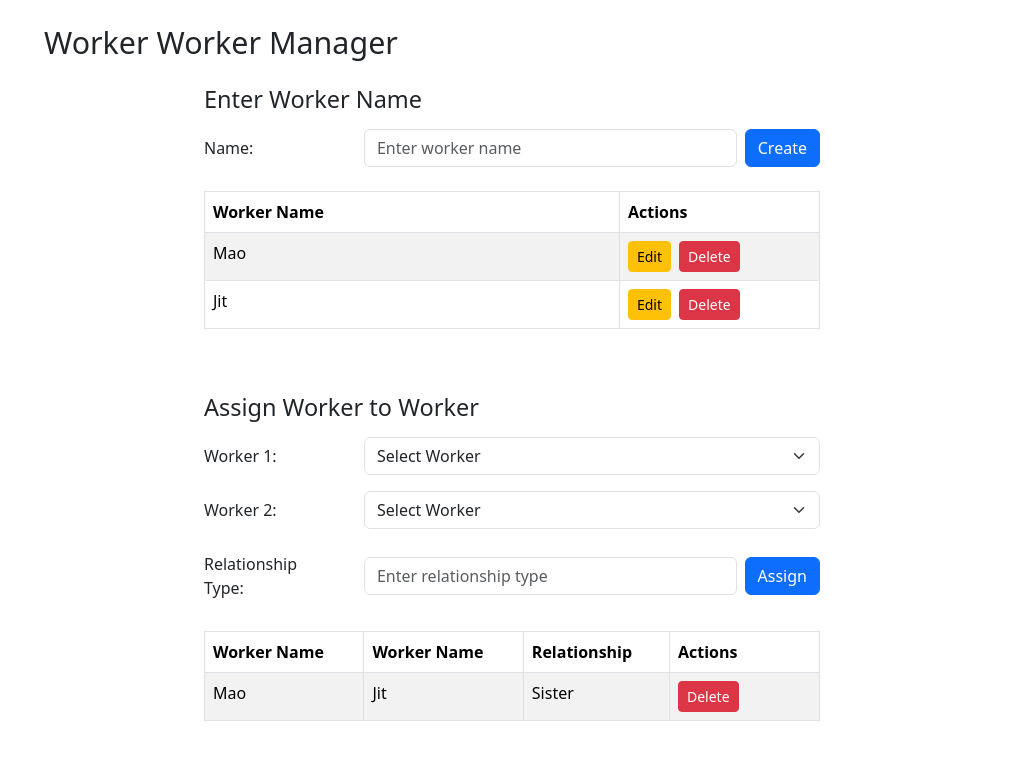
Test case: WorkerWorkerManager Component › remove a worker and an assignment automatically
Step 1. Click the 2nd button "Delete" → {"x": 709, "y": 304}, box [679,289,740,320]
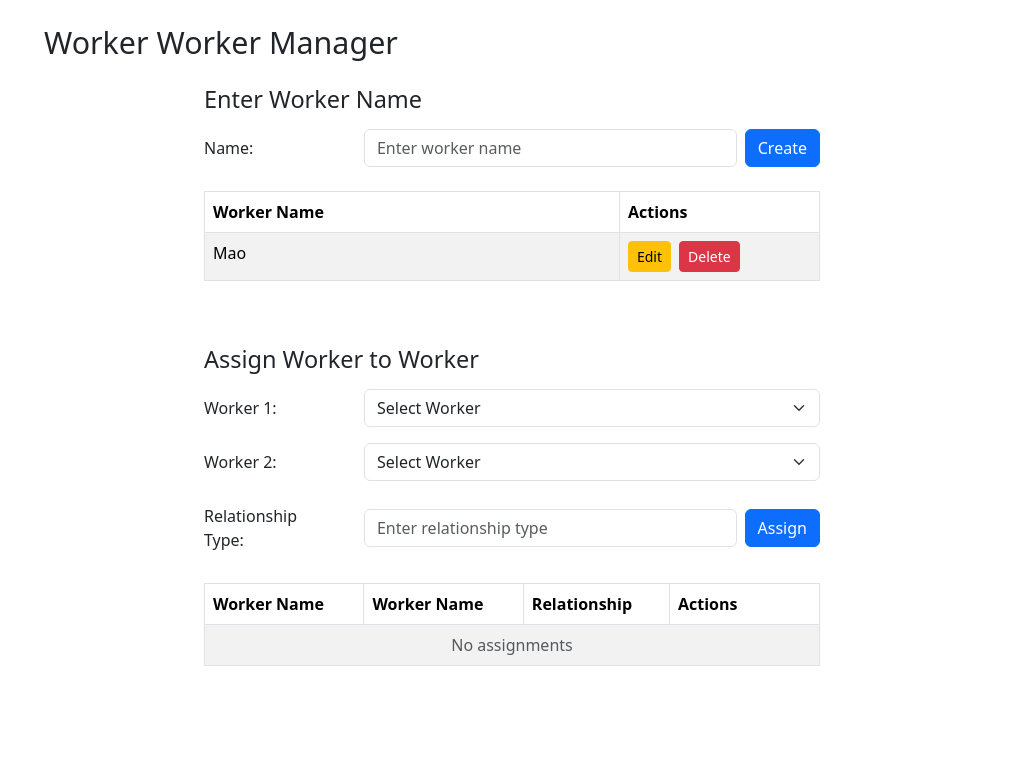
Expected: the text "Jit" is gone
